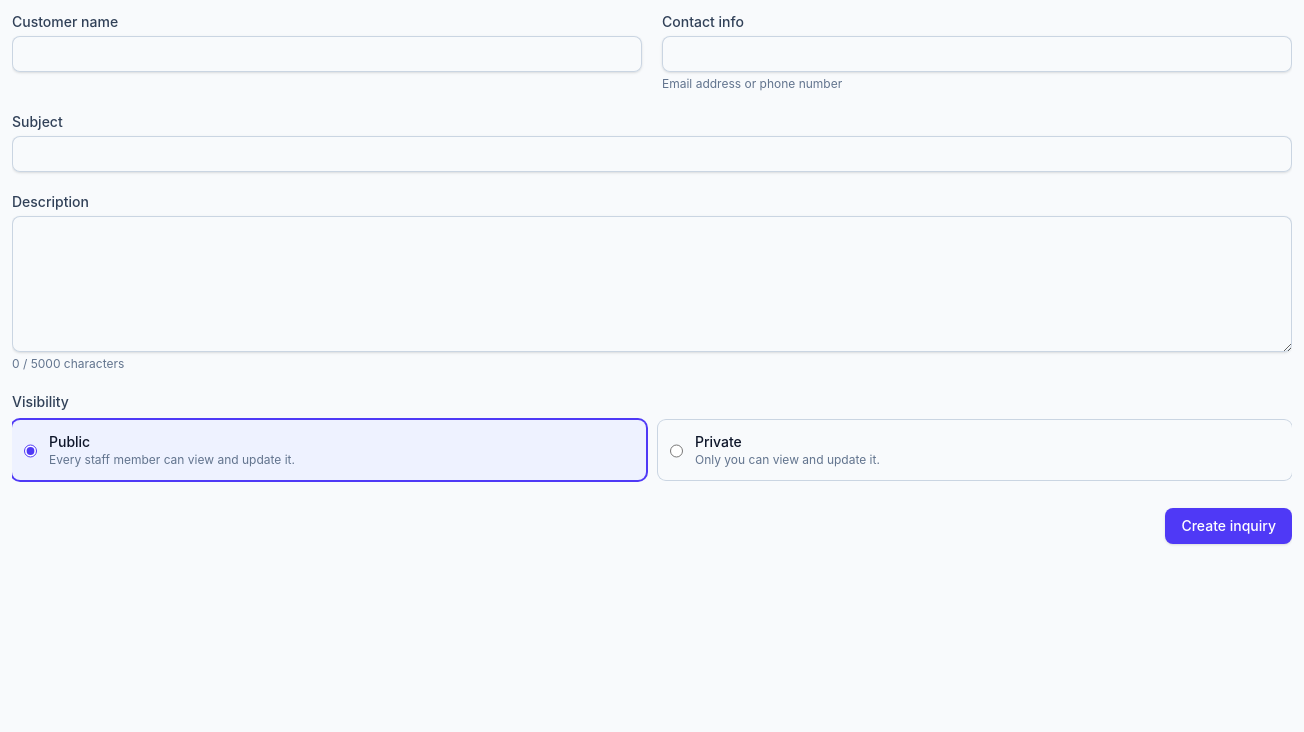
it: InquiryForm (create inquiry) — Situation 1: invalid customer input › disables the submit button while saving, preventing duplicate inquiries from double clicks
Type "  John Silva  " into the field labelled "Customer name" at (327, 54), box [12, 36, 642, 72]
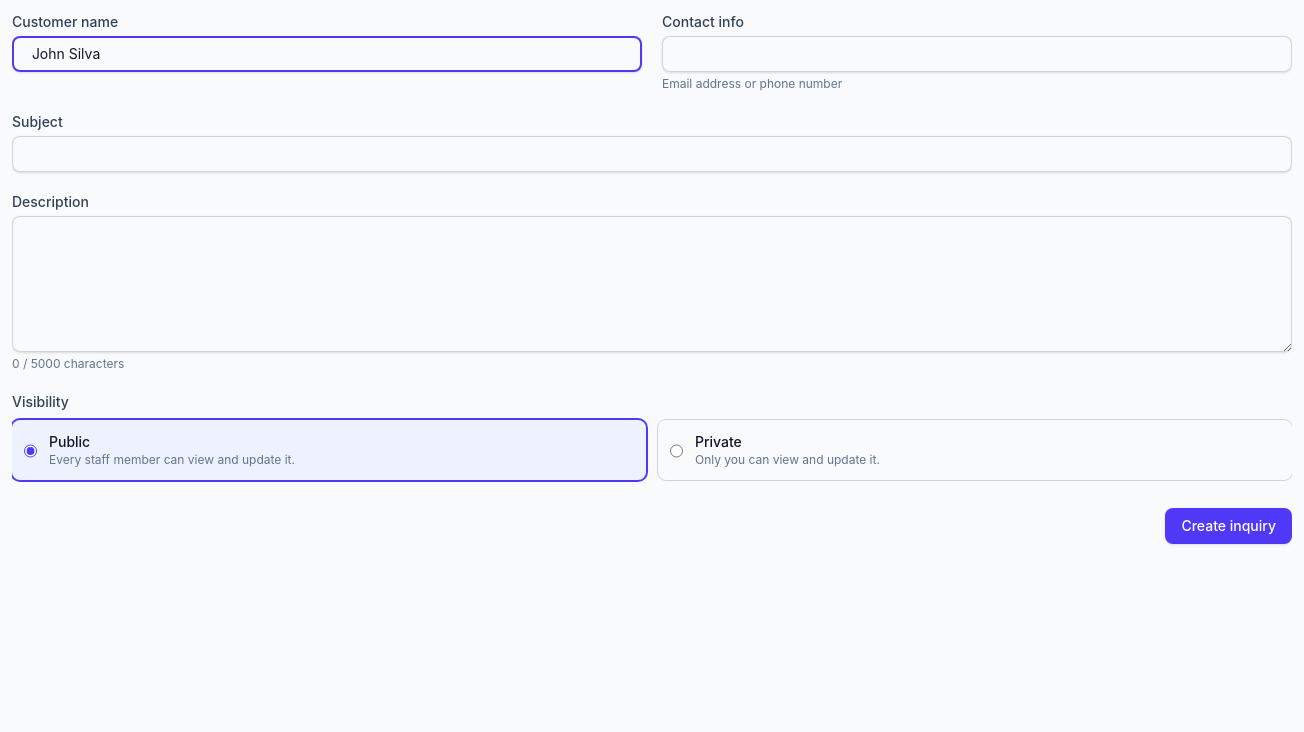
Type "077 123 4567" into the field labelled "Contact info" at (977, 54), box [662, 36, 1292, 72]
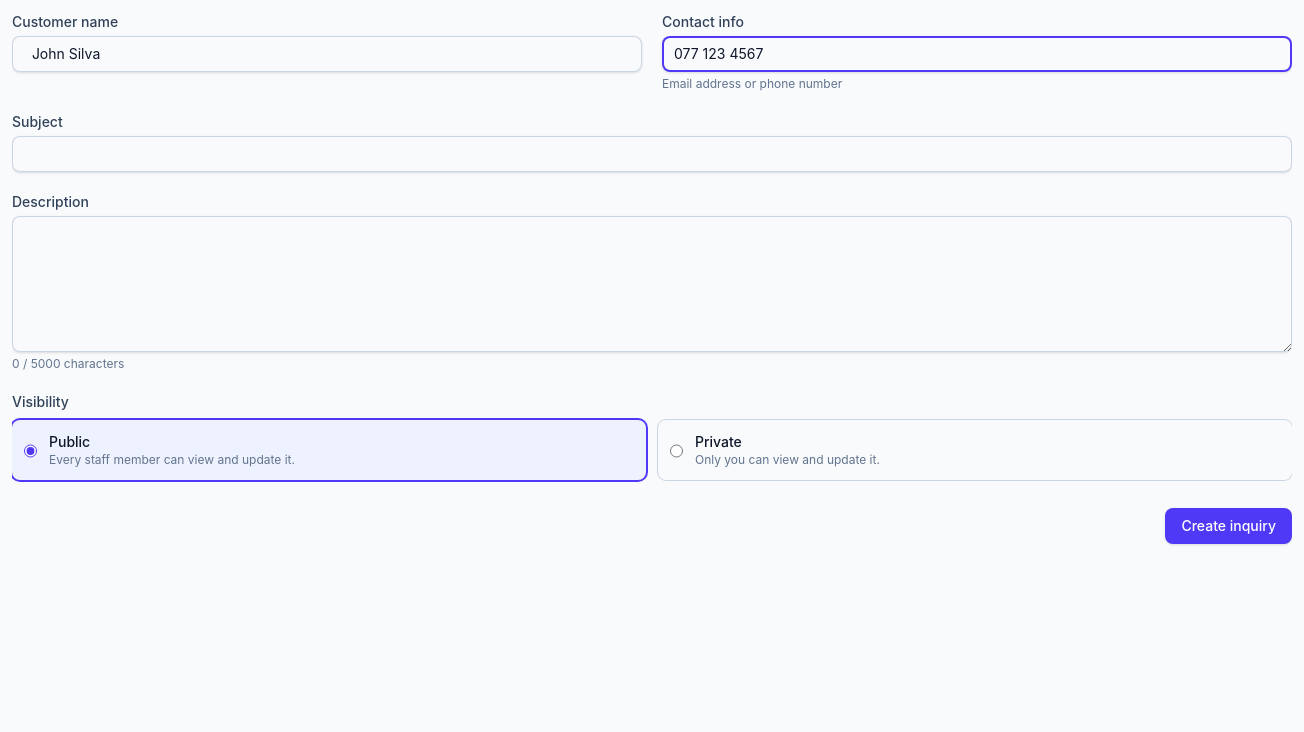
Type "Service inquiry" into the field labelled "Subject" at (652, 154), box [12, 136, 1292, 172]
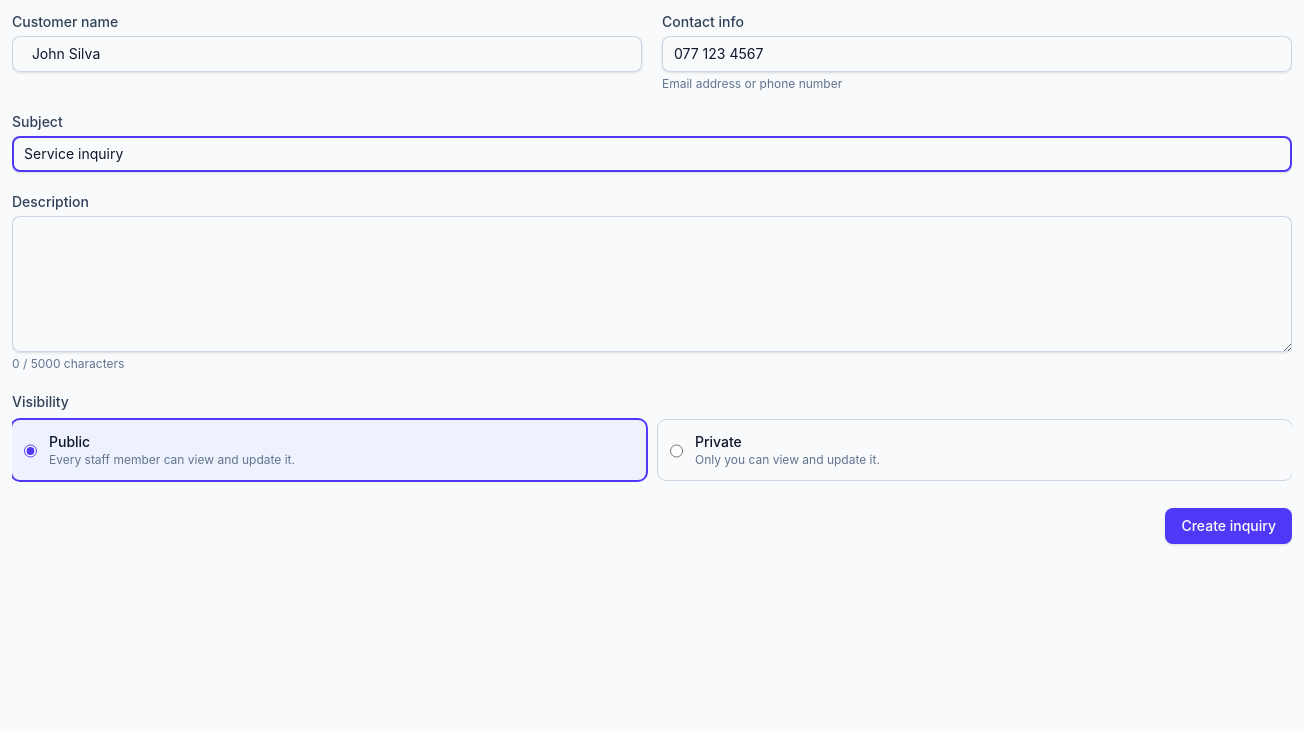
Type "Customer wants information about the service." into the text box labelled "Description" at (652, 284), box [12, 216, 1292, 352]
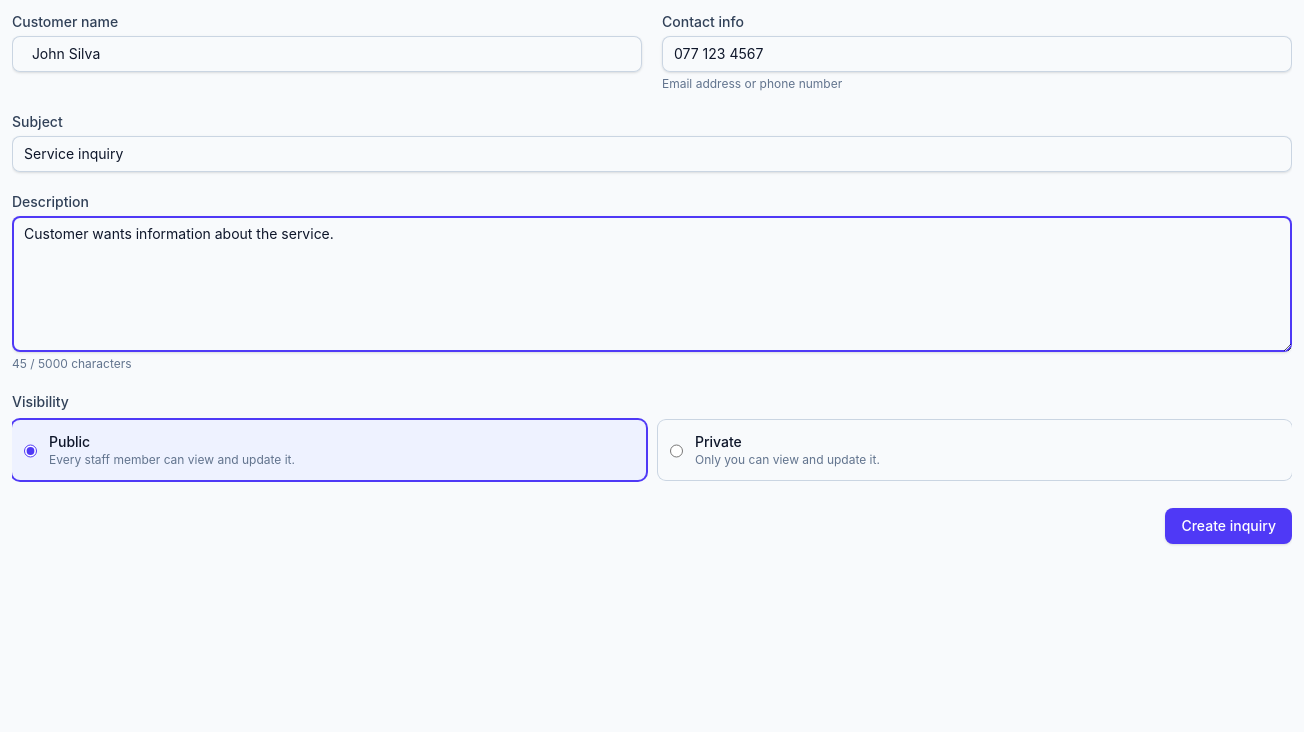
Click the button "Create inquiry" at (1229, 526), box [1165, 508, 1292, 544]
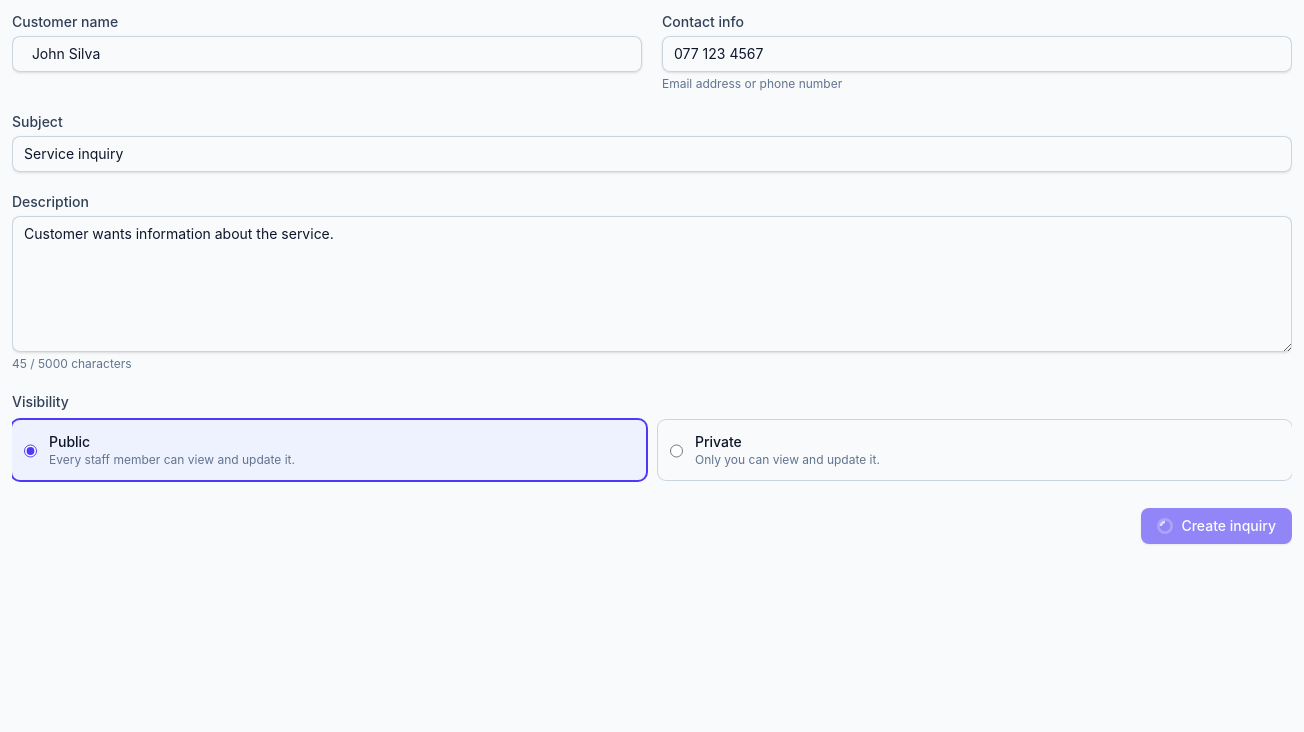
Check: the button "Create inquiry" is disabled
Click the button "Create inquiry" at (1217, 526), box [1141, 508, 1292, 544]
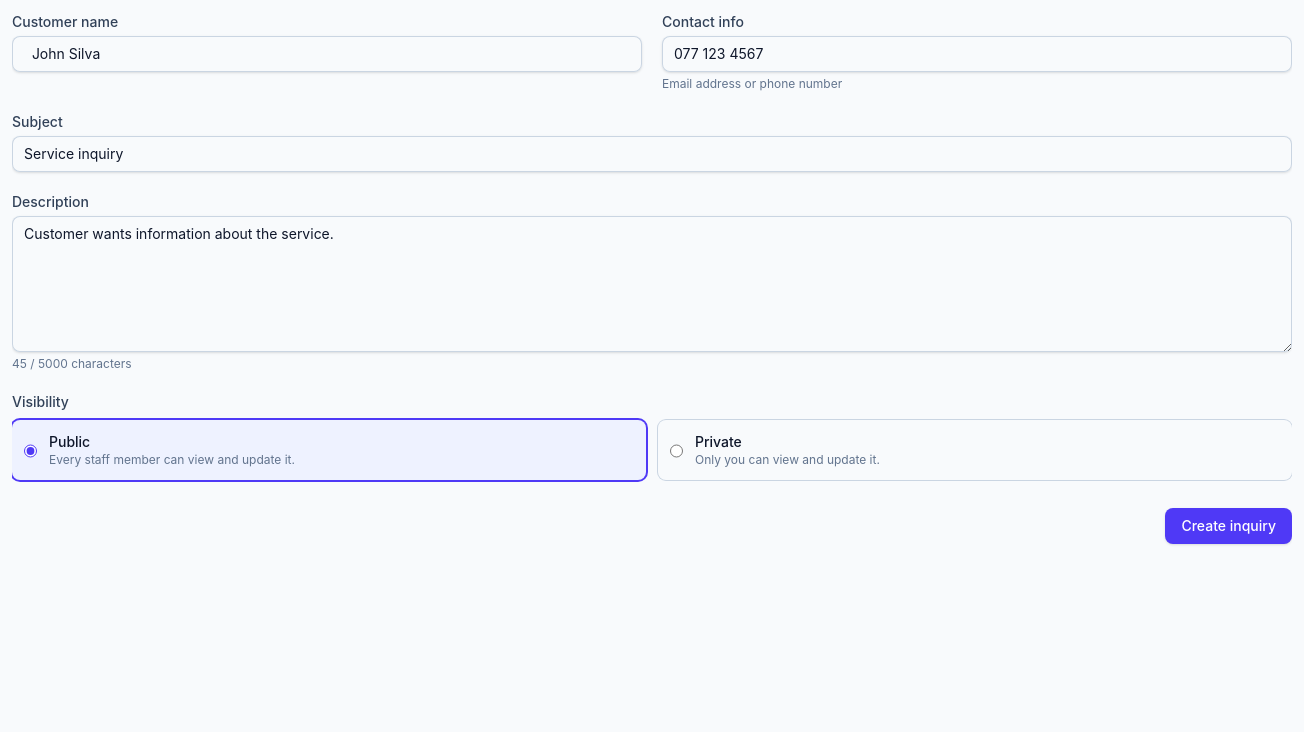
Check: the button "Create inquiry" is enabled, box [1165, 508, 1292, 544]
